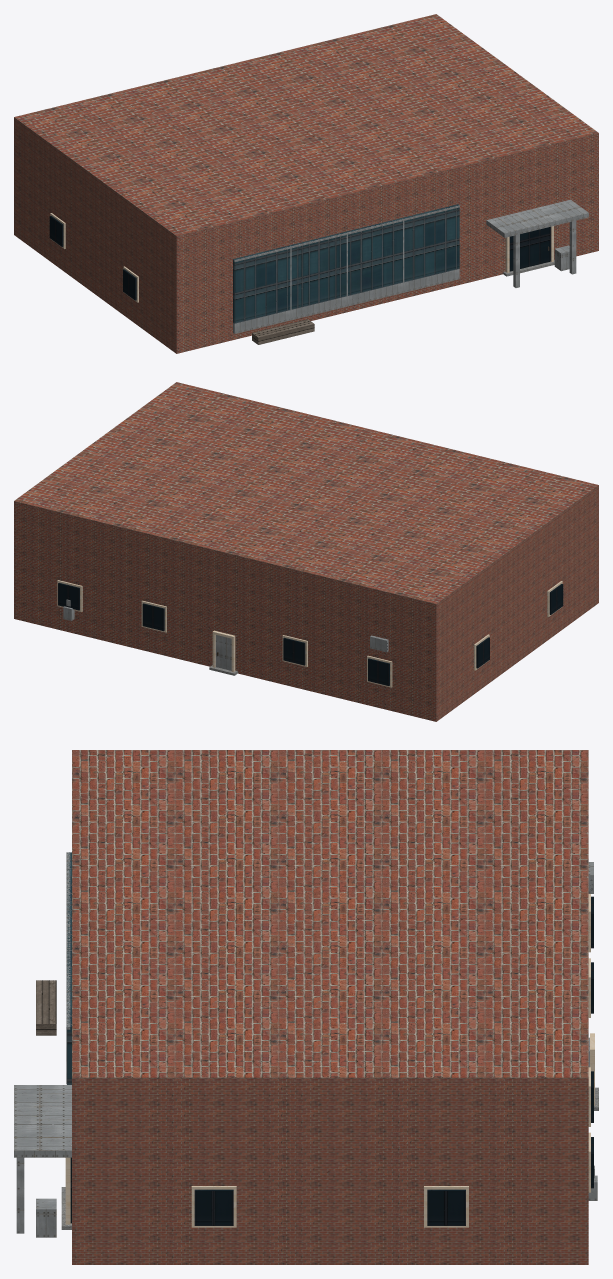
File: library-branch_lod0.gltf
3 views of the same model, one above another, from view 1: azimuth 30°, elevation 25°; view 2: azimuth 150°, elevation 25°; view 3: azimuth 270°, elevation 25° (orthographic). The views are drawn at different scales.
Visible parts, largest first — view 1: library-branch_main, library-branch_fen_07-glass-curtain-blue_1, library-branch_fen_14-steel-panel_0, library-branch__entry_canopy, library-branch_fen_07-glass-curtain-blue_3_t, library-branch__benches, library-branch_fen_04-limestone_2; view 2: library-branch_main, library-branch_fen_07-glass-curtain-blue_3_t, library-branch_fen_04-limestone_2, library-branch_fen_14-steel-panel_0; view 3: library-branch_main, library-branch__entry_canopy, library-branch_fen_07-glass-curtain-blue_3_t, library-branch_fen_04-limestone_2, library-branch_fen_14-steel-panel_0, library-branch__benches, library-branch_fen_07-glass-curtain-blue_1, library-branch__book_drop, library-branch__canopy_post_b.
Part boxes in pixels (box(x1,y1,x2,y2)): library-branch_main: box(14, 14, 598, 353); library-branch_fen_07-glass-curtain-blue_1: box(233, 204, 459, 323); library-branch_fen_14-steel-panel_0: box(233, 205, 459, 333); library-branch__entry_canopy: box(486, 199, 588, 237); library-branch_fen_07-glass-curtain-blue_3_t: box(49, 216, 550, 300); library-branch__benches: box(252, 319, 314, 344); library-branch_fen_04-limestone_2: box(50, 213, 553, 302); library-branch_main: box(14, 382, 598, 721); library-branch_fen_07-glass-curtain-blue_3_t: box(58, 583, 563, 685); library-branch_fen_04-limestone_2: box(57, 580, 562, 687); library-branch_fen_14-steel-panel_0: box(63, 599, 388, 670); library-branch_main: box(72, 750, 588, 1264); library-branch__entry_canopy: box(14, 1085, 71, 1157); library-branch_fen_07-glass-curtain-blue_3_t: box(70, 896, 593, 1225); library-branch_fen_04-limestone_2: box(65, 894, 594, 1227); library-branch_fen_14-steel-panel_0: box(66, 852, 597, 1200); library-branch__benches: box(36, 980, 56, 1035); library-branch_fen_07-glass-curtain-blue_1: box(67, 852, 71, 1084); library-branch__book_drop: box(36, 1198, 56, 1237); library-branch__canopy_post_b: box(16, 1157, 24, 1233).
Size of the model in its own units: 30.4 by 8 by 22.65.
